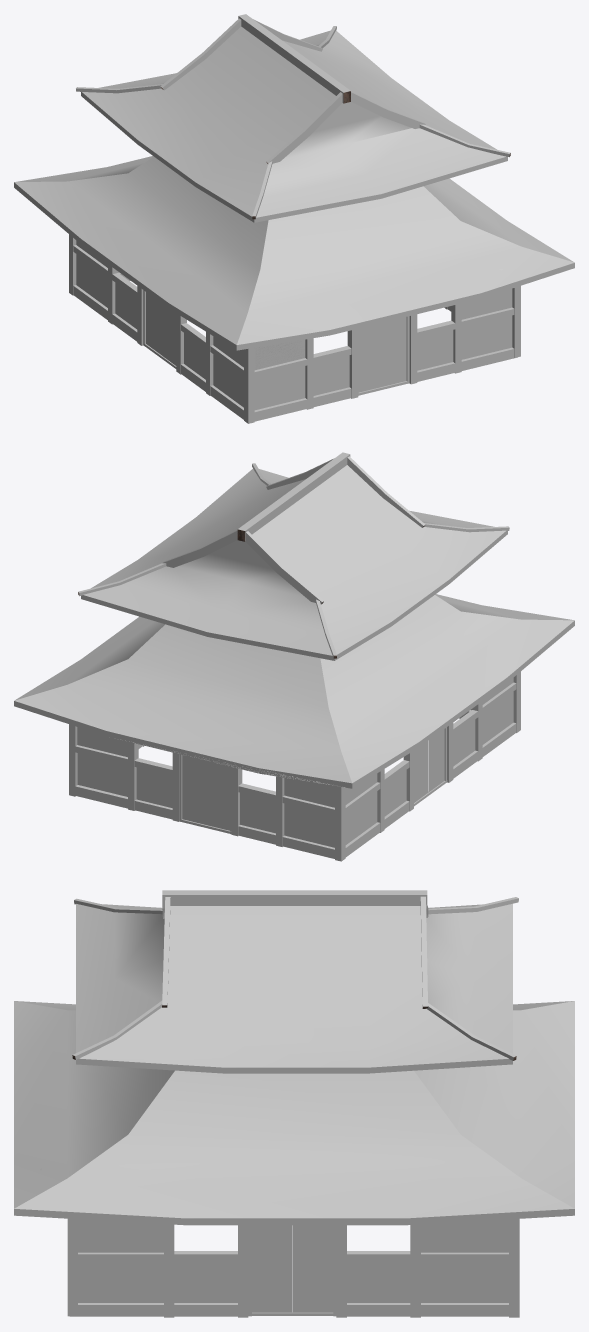
Rendered from building_14 lod2.fbx.
3 renders of one model, top to bottom at view 1: azimuth 30°, elevation 25°; view 2: azimuth 150°, elevation 25°; view 3: azimuth 270°, elevation 25°, orthographic. The views are drawn at different scales.
Parts seen in each view (by area): view 1: polySurface3022; view 2: polySurface3022; view 3: polySurface3022.
Part boxes in pixels (x1=…): polySurface3022: x1=14, y1=14, x2=574, y2=423; polySurface3022: x1=14, y1=452, x2=574, y2=861; polySurface3022: x1=14, y1=890, x2=574, y2=1317.
Bounding box in the file's own units: 14.38 × 11.02 × 16.4.
